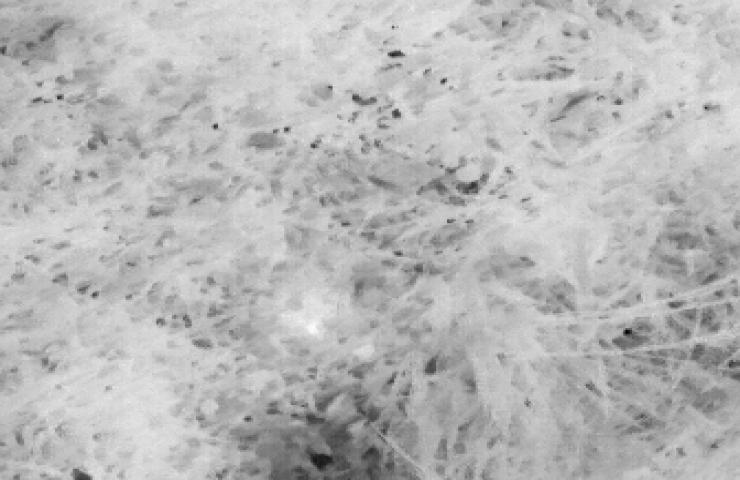landmines: (265, 272, 359, 348)
